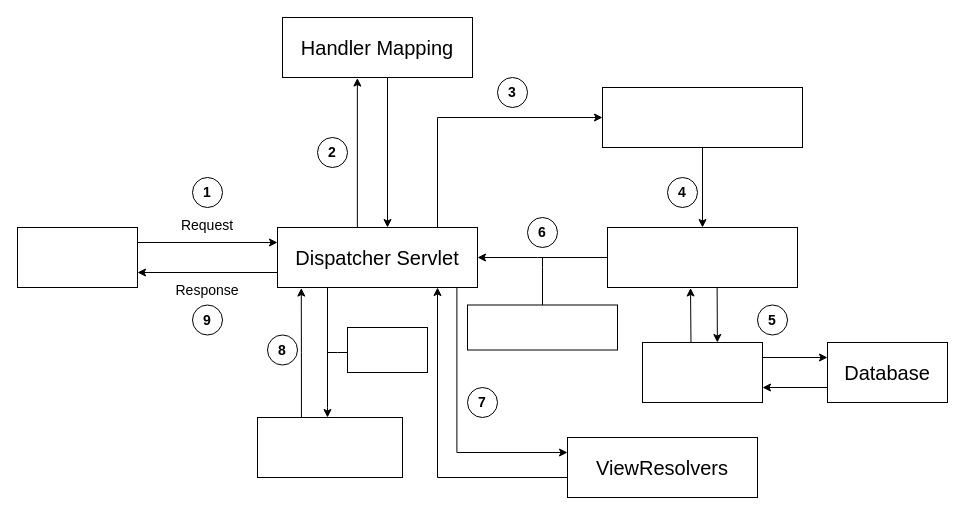
The diagram is 965 pixels wide and 515 high, and some of its shapes have lost their labels. Here are the shapes that lost their labels. From the top down, the box of each, then its label:
(602, 86, 802, 148): Interceptors (Pre-handle)
(16, 226, 138, 288): Browser
(606, 226, 798, 288): Controller
(466, 304, 618, 350): Model & View
(346, 326, 428, 372): Model
(642, 342, 762, 402): DAO
(256, 416, 402, 478): View
